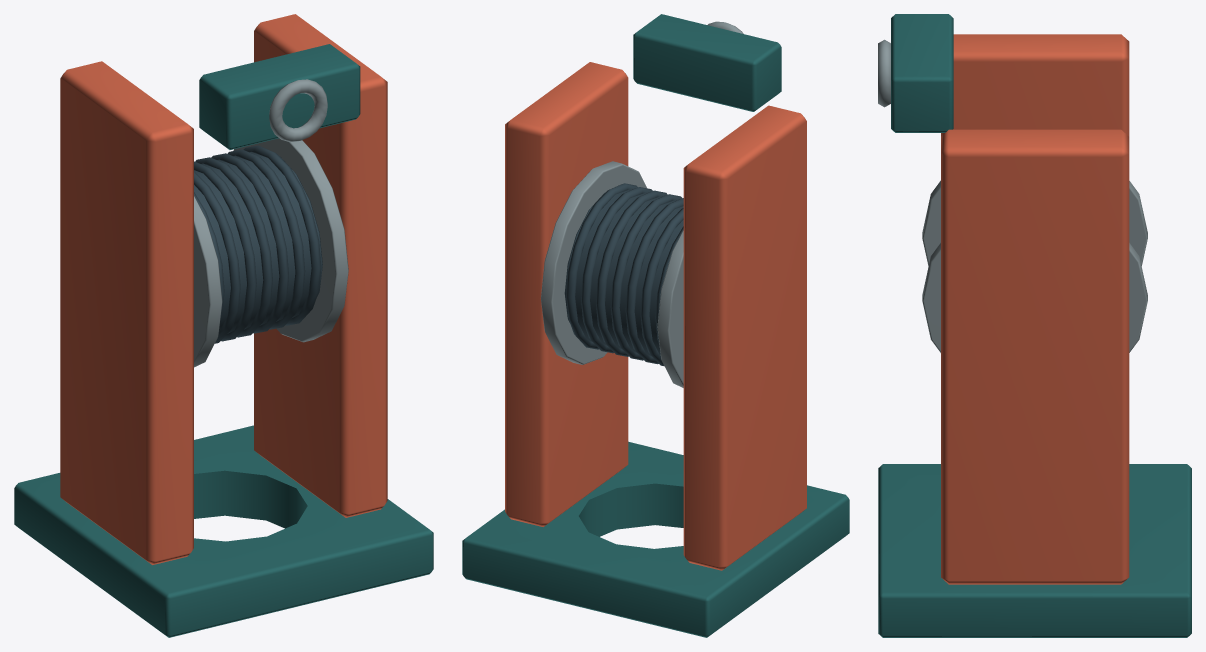
File: winch-lod-1.glb
3 renders of one model, left to right at view 1: azimuth 30°, elevation 25°; view 2: azimuth 150°, elevation 25°; view 3: azimuth 270°, elevation 25°, orthographic. The views are drawn at different scales.
Parts seen in each view (by area): view 1: winch_lod_1; view 2: winch_lod_1; view 3: winch_lod_1.
Part boxes in pixels (x1=…): winch_lod_1: x1=14, y1=14, x2=433, y2=637; winch_lod_1: x1=462, y1=14, x2=849, y2=637; winch_lod_1: x1=878, y1=14, x2=1191, y2=637.
Bounding box in the file's own units: 1 × 1.87 × 1.
